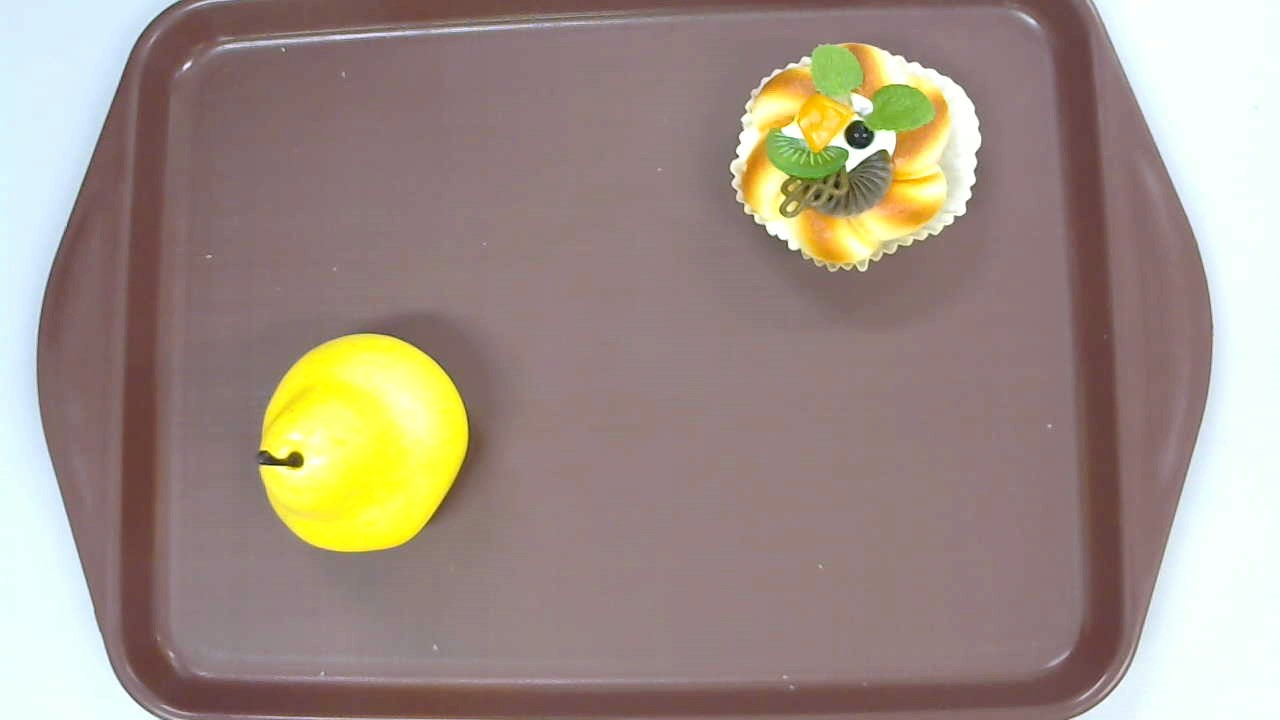fruit tart: (729, 41, 981, 275)
yellow pear: (256, 334, 469, 550)
